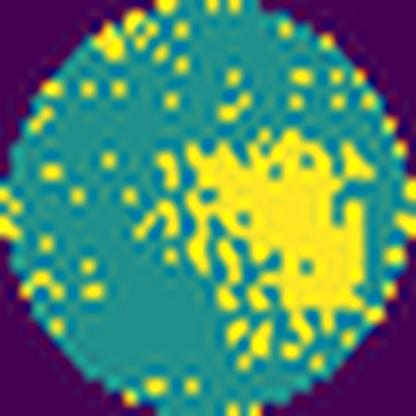Loc: (184, 128, 372, 357)
